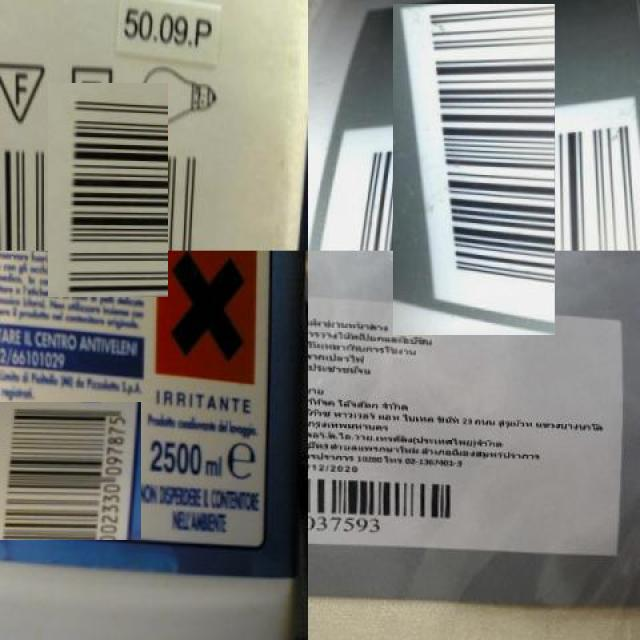Barcode: (350, 47, 598, 293), (24, 107, 191, 274), (0, 402, 140, 542), (308, 469, 468, 542)
